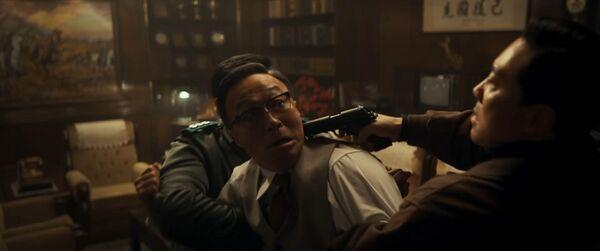Gun: (303, 105, 393, 153)
